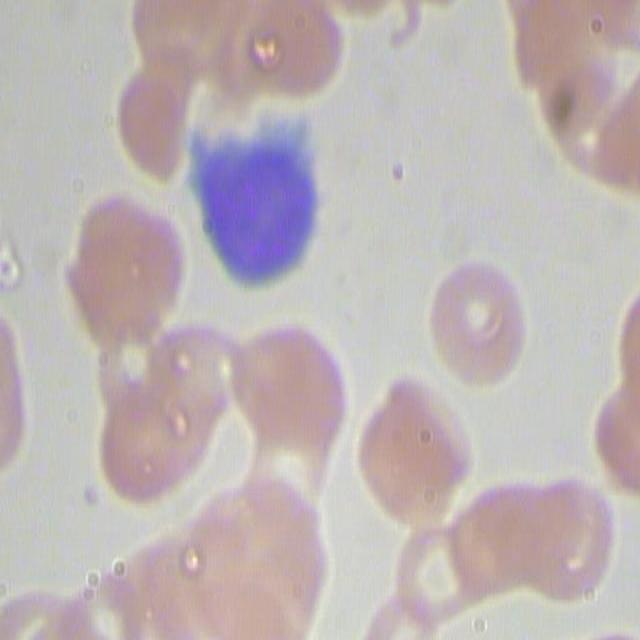RBC: (230, 318, 352, 517), (510, 0, 638, 189), (93, 315, 213, 505), (183, 480, 324, 639), (16, 526, 206, 640), (458, 475, 616, 610), (66, 190, 176, 349), (356, 374, 466, 530), (204, 1, 354, 111), (426, 260, 527, 387), (112, 65, 191, 186), (88, 315, 172, 415), (596, 375, 640, 497)
WBC: (204, 147, 334, 305)
